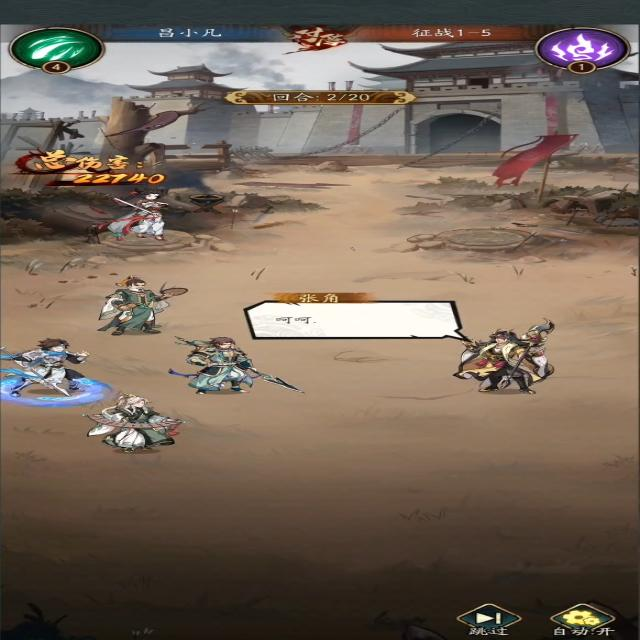system-auto: (544, 602, 630, 638)
system-skip: (447, 601, 527, 638)
